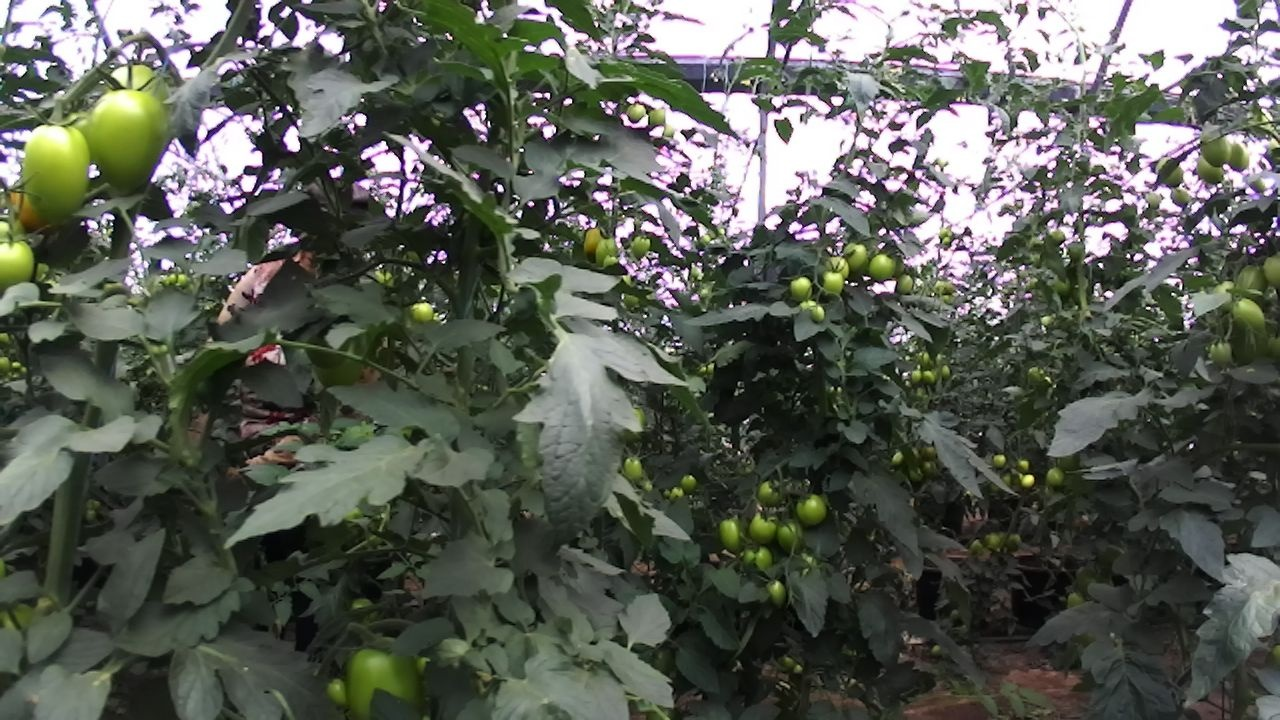tomato: (79, 71, 177, 204), (15, 113, 107, 235), (338, 627, 435, 720), (0, 228, 41, 296), (1225, 255, 1276, 307), (1229, 293, 1272, 341), (792, 484, 834, 533), (770, 516, 813, 559), (1195, 126, 1236, 168), (864, 246, 900, 288), (745, 506, 781, 547), (715, 514, 750, 556), (1222, 135, 1257, 177), (1152, 153, 1188, 193), (404, 293, 440, 332), (1193, 152, 1228, 187), (819, 250, 854, 284), (579, 224, 608, 265), (593, 232, 621, 274), (761, 576, 794, 611), (1205, 337, 1238, 372), (839, 238, 869, 276), (754, 475, 786, 510), (818, 265, 847, 299), (796, 297, 829, 326), (622, 98, 651, 130), (1165, 183, 1194, 215), (787, 273, 816, 304), (620, 453, 646, 483), (628, 231, 653, 262), (676, 471, 702, 498), (1042, 466, 1069, 490), (646, 102, 669, 130), (892, 271, 916, 297), (1143, 191, 1163, 212), (990, 451, 1009, 469), (921, 368, 938, 388), (1019, 472, 1037, 489), (908, 367, 924, 386)
